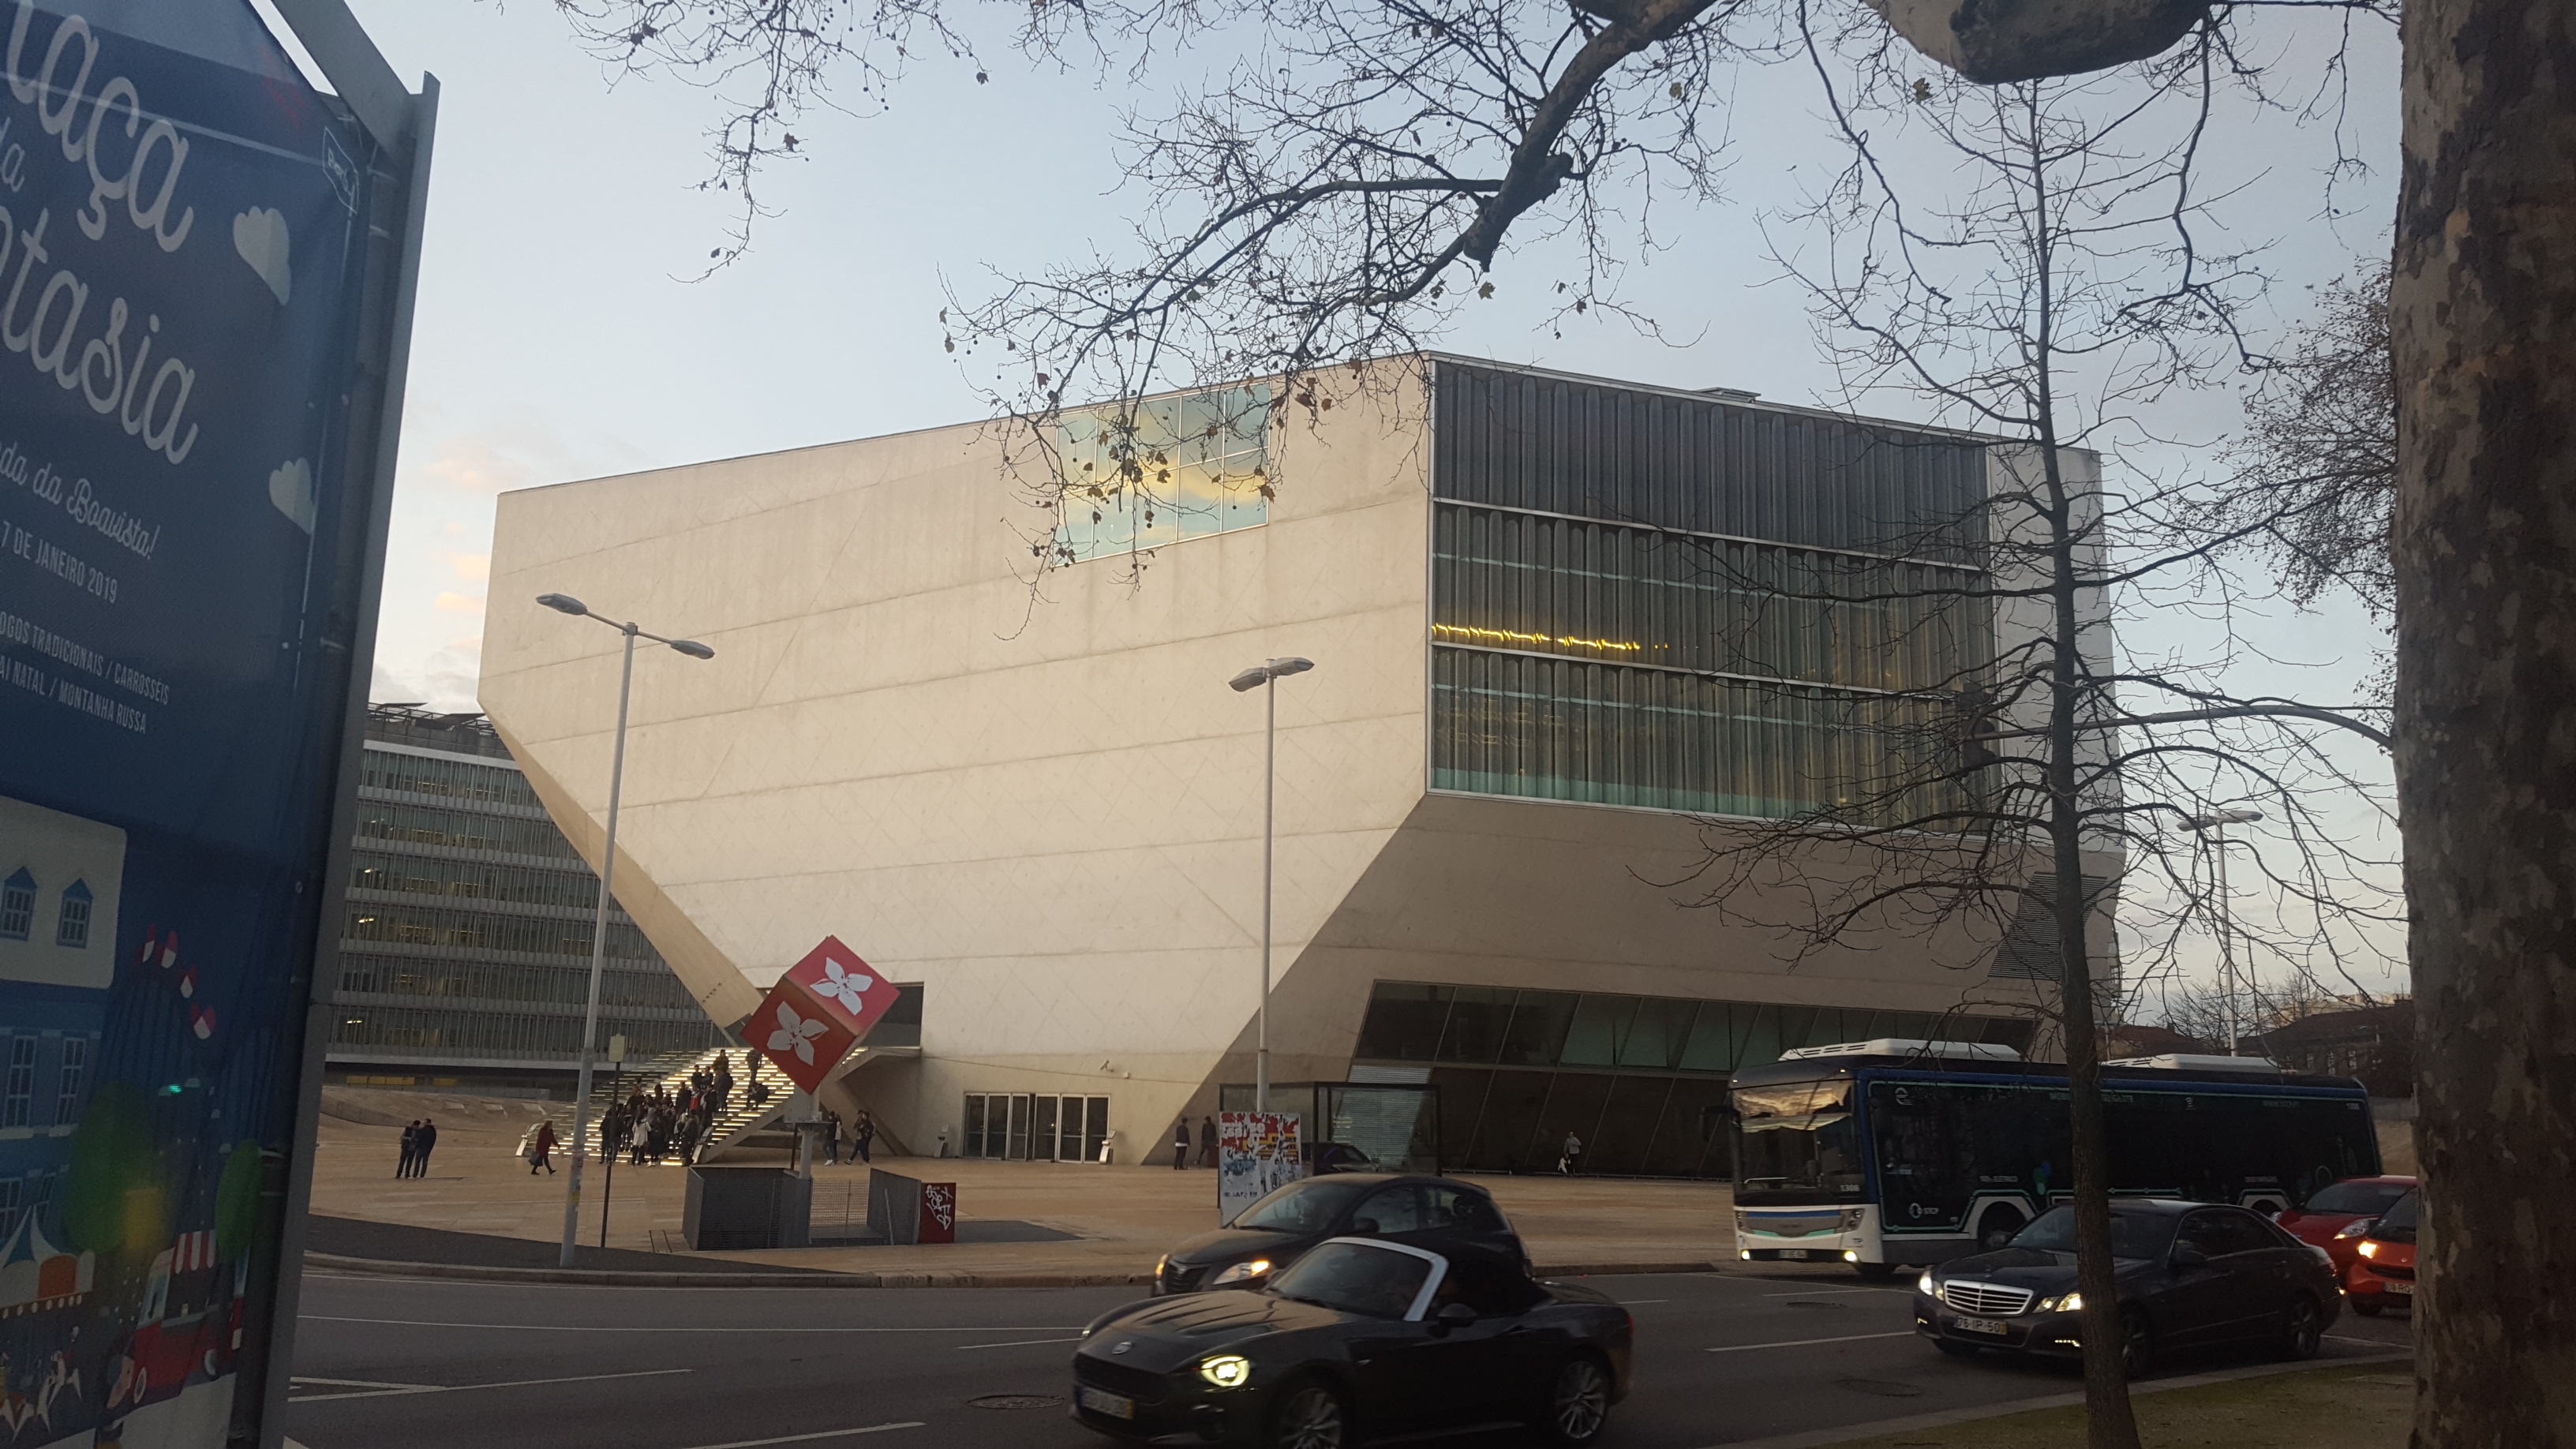musica: (474, 352, 1697, 793)
